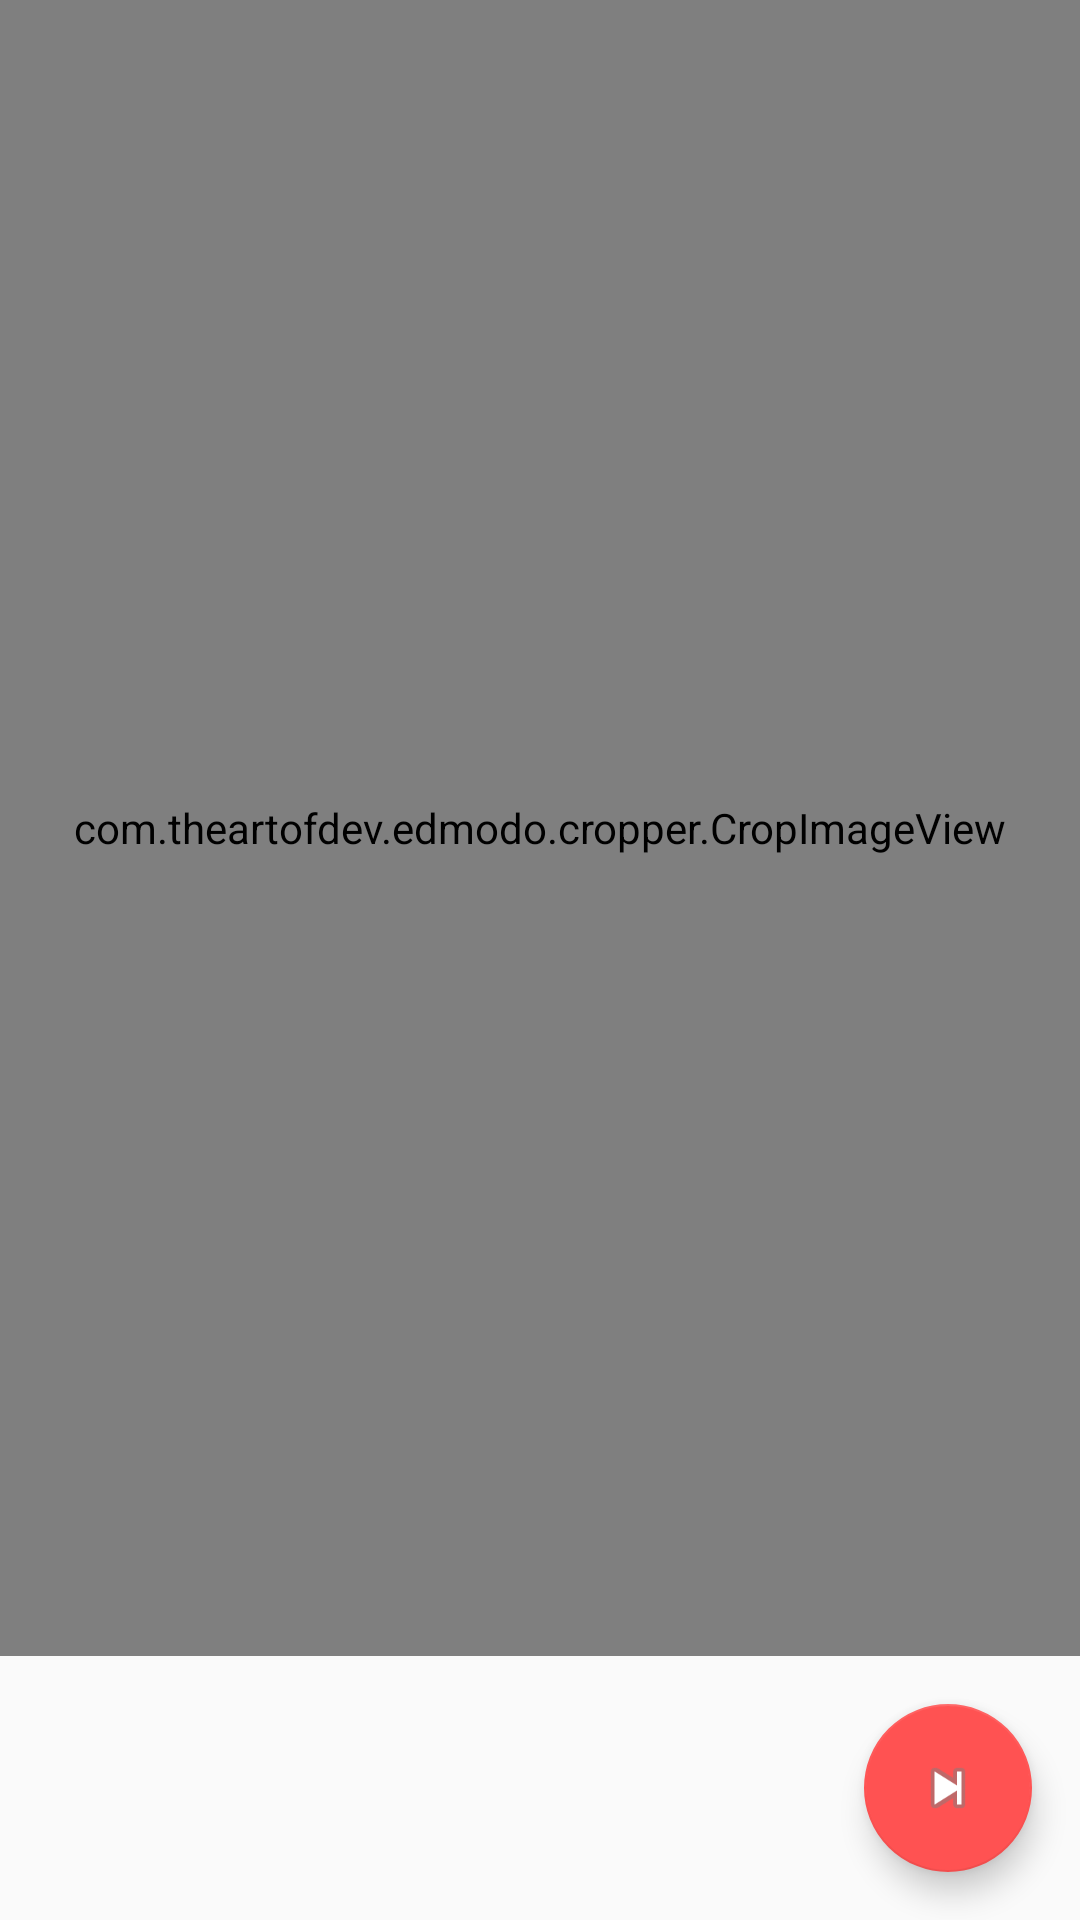

Point at icon controls on the screen. Image size 1080 × 1920, points as point (x, y).
next: point (948, 1788)
